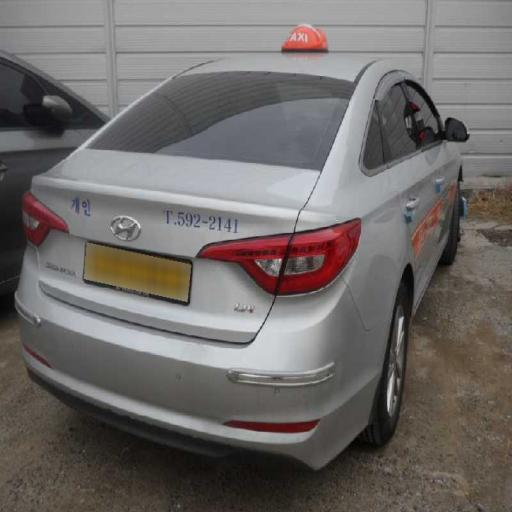normal: (16, 9, 478, 480)
